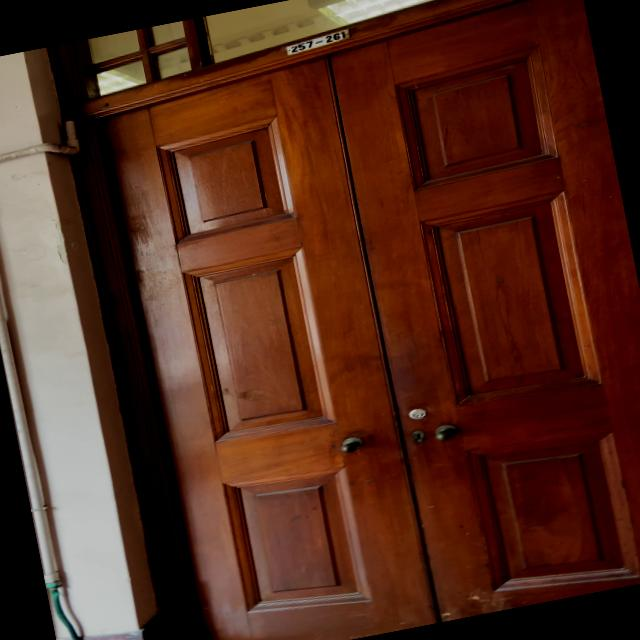room257: (270, 26, 357, 61)
room257door: (62, 0, 640, 640)
